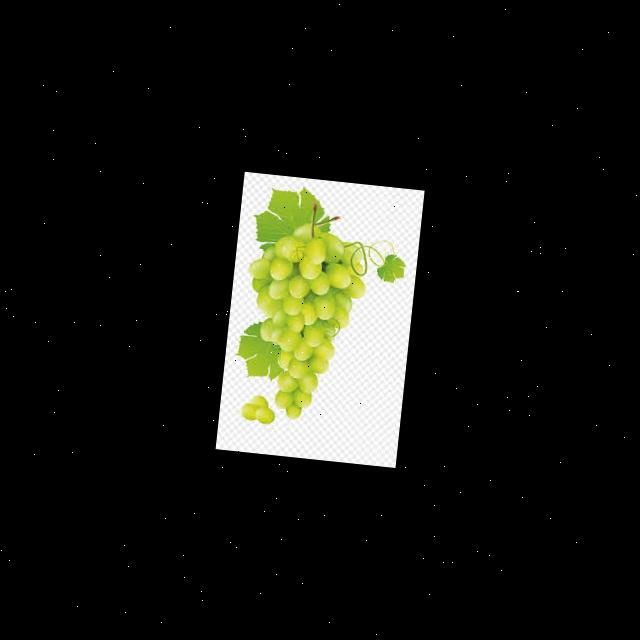grape: (232, 196, 374, 432)
